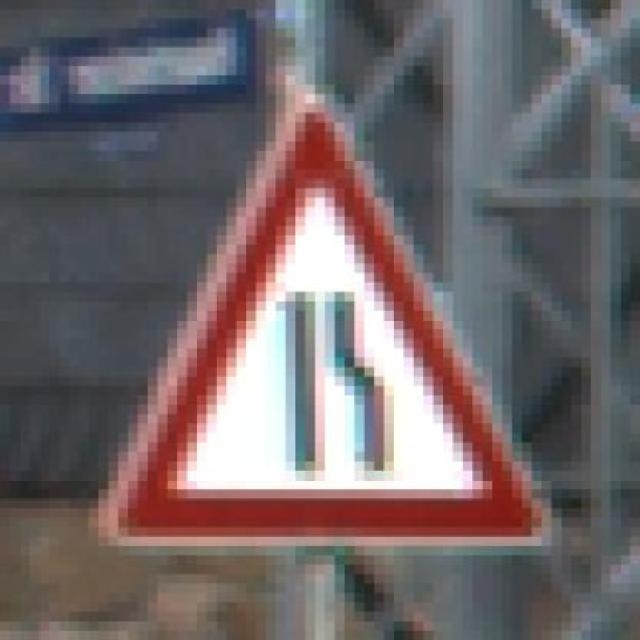-Road narrows on right: (78, 85, 571, 564)
